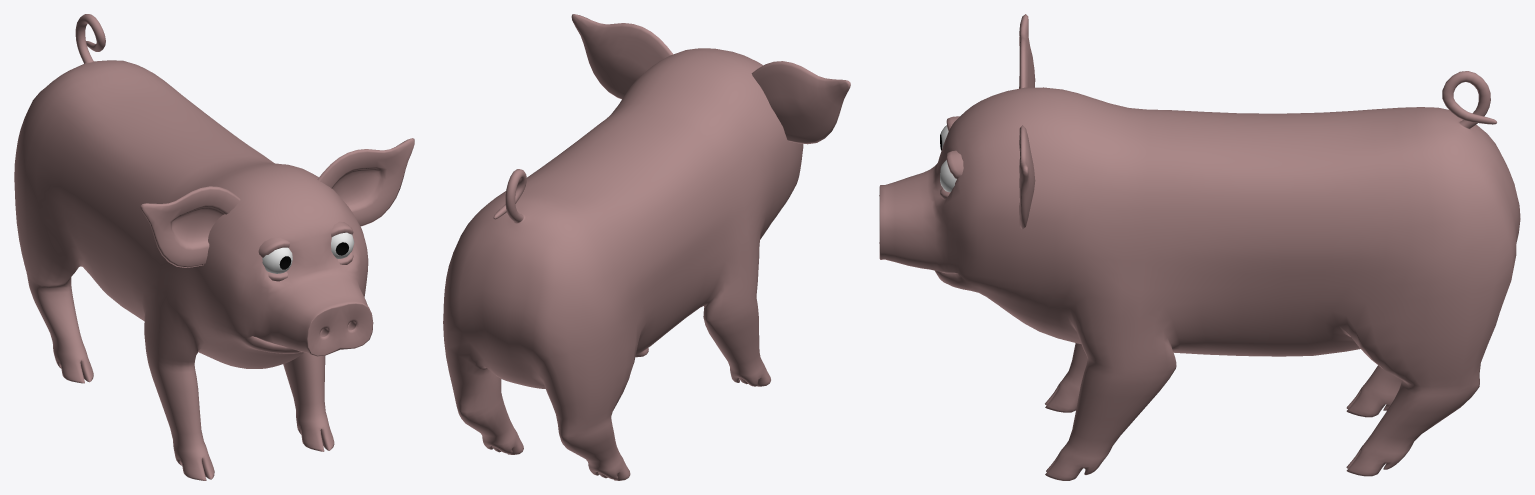
The model's file is Piggy2.fbx.
3 renders of one model, left to right at view 1: azimuth 30°, elevation 25°; view 2: azimuth 150°, elevation 25°; view 3: azimuth 270°, elevation 25°, orthographic. The views are drawn at different scales.
Visible parts, largest first — view 1: PiggyTransform, RightEye, LeftEye; view 2: PiggyTransform; view 3: PiggyTransform.
Part boxes in pixels (x1,y1,x2,y2): PiggyTransform: (14,14,414,480); RightEye: (262,247,292,273); LeftEye: (331,232,354,258); PiggyTransform: (443,14,850,480); PiggyTransform: (879,14,1520,480).
Bounding box in the file's own units: 14.98 × 16.63 × 26.07.
